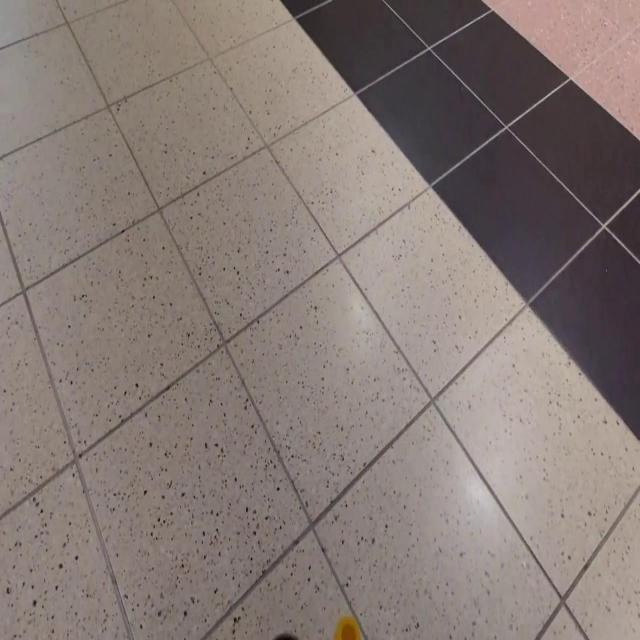frc_cone: (332, 612, 362, 640)
